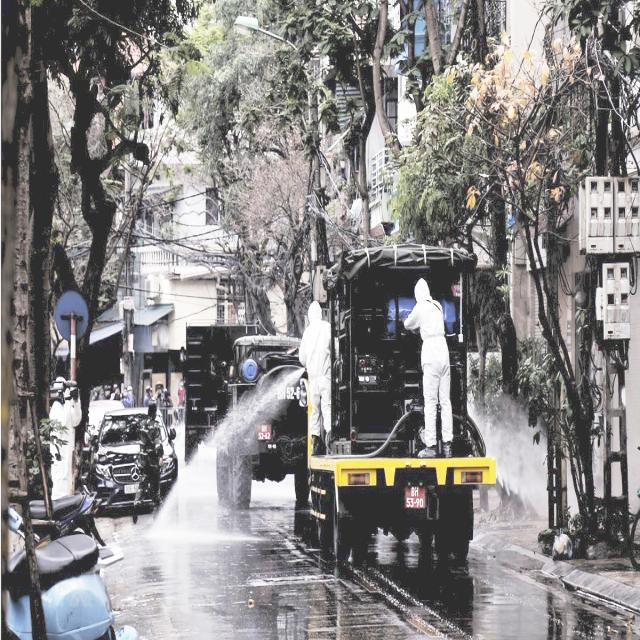license_plate: (406, 488, 427, 509)
